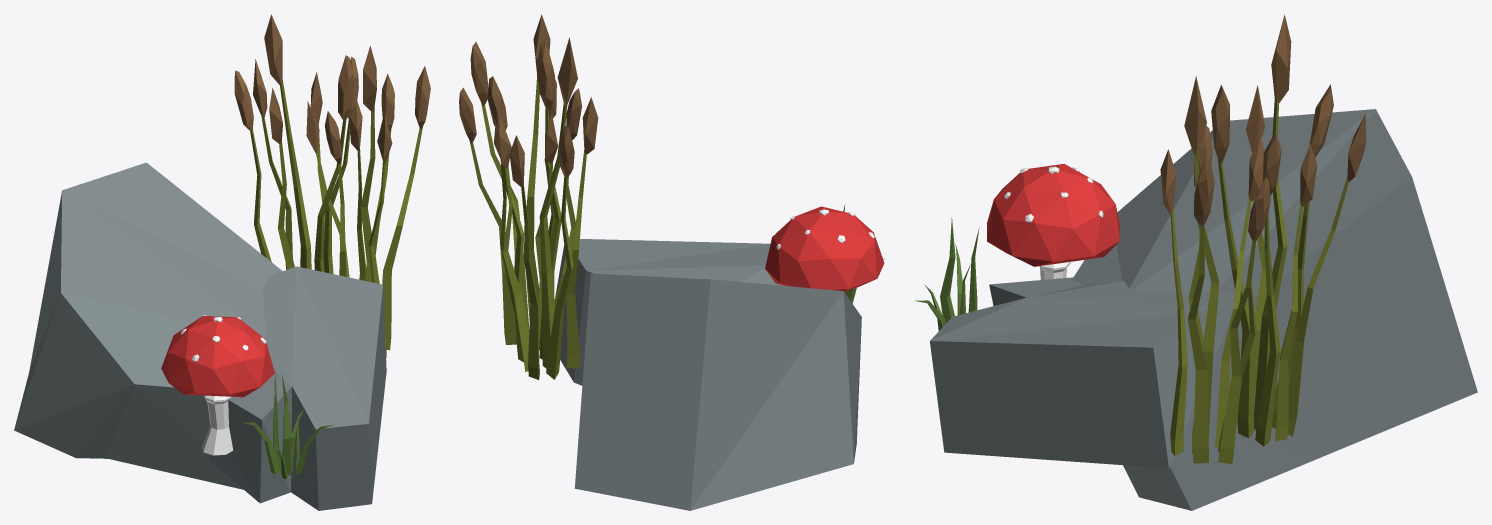
Rendered from Rock_19.fbx.
3 views of the same model, side by side, from view 1: azimuth 30°, elevation 25°; view 2: azimuth 150°, elevation 25°; view 3: azimuth 270°, elevation 25° (orthographic). The views are drawn at different scales.
Parts seen in each view (by area): view 1: Rock_19; view 2: Rock_19; view 3: Rock_19.
Boxes of the visible parts, left/top/right/bottom form: Rock_19: left=14, top=14, right=430, bottom=510; Rock_19: left=459, top=14, right=884, bottom=510; Rock_19: left=915, top=14, right=1477, bottom=510.
Bounding box in the file's own units: 82.75 × 82.46 × 84.99.
